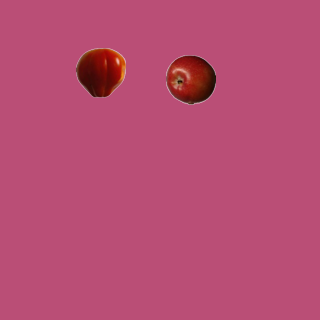Apple Braeburn: (165, 54, 215, 104)
Tomato 1: (75, 47, 125, 97)
